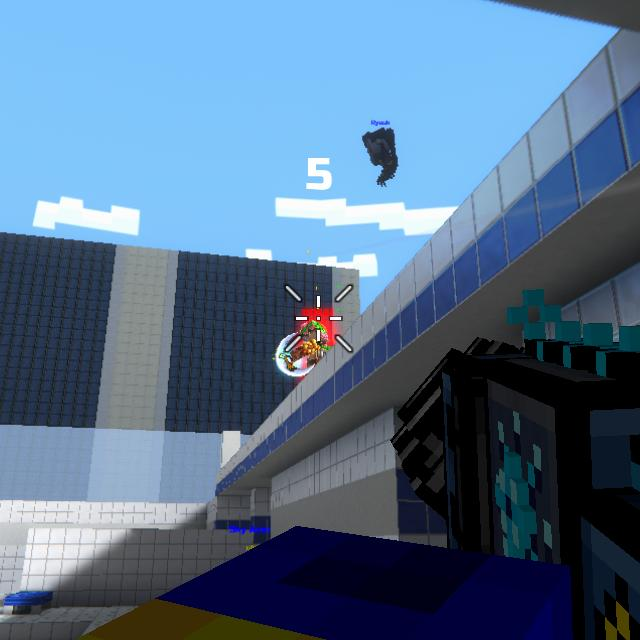Enemy: (290, 320, 332, 369)
